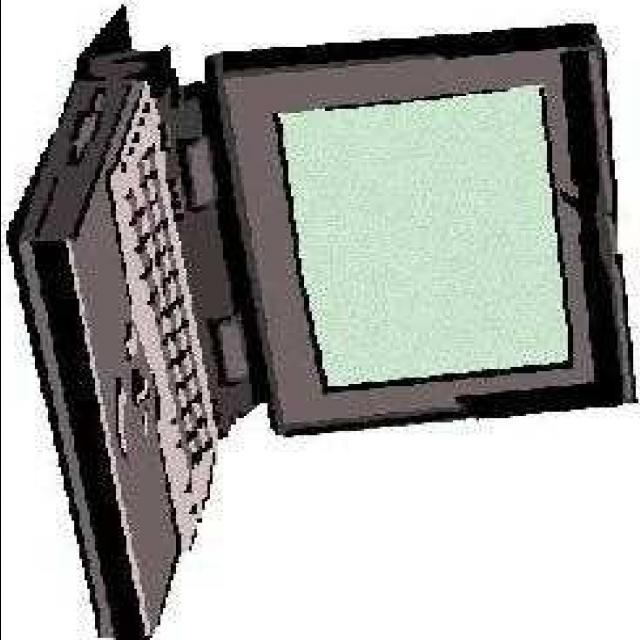laptop: (34, 40, 636, 634)
